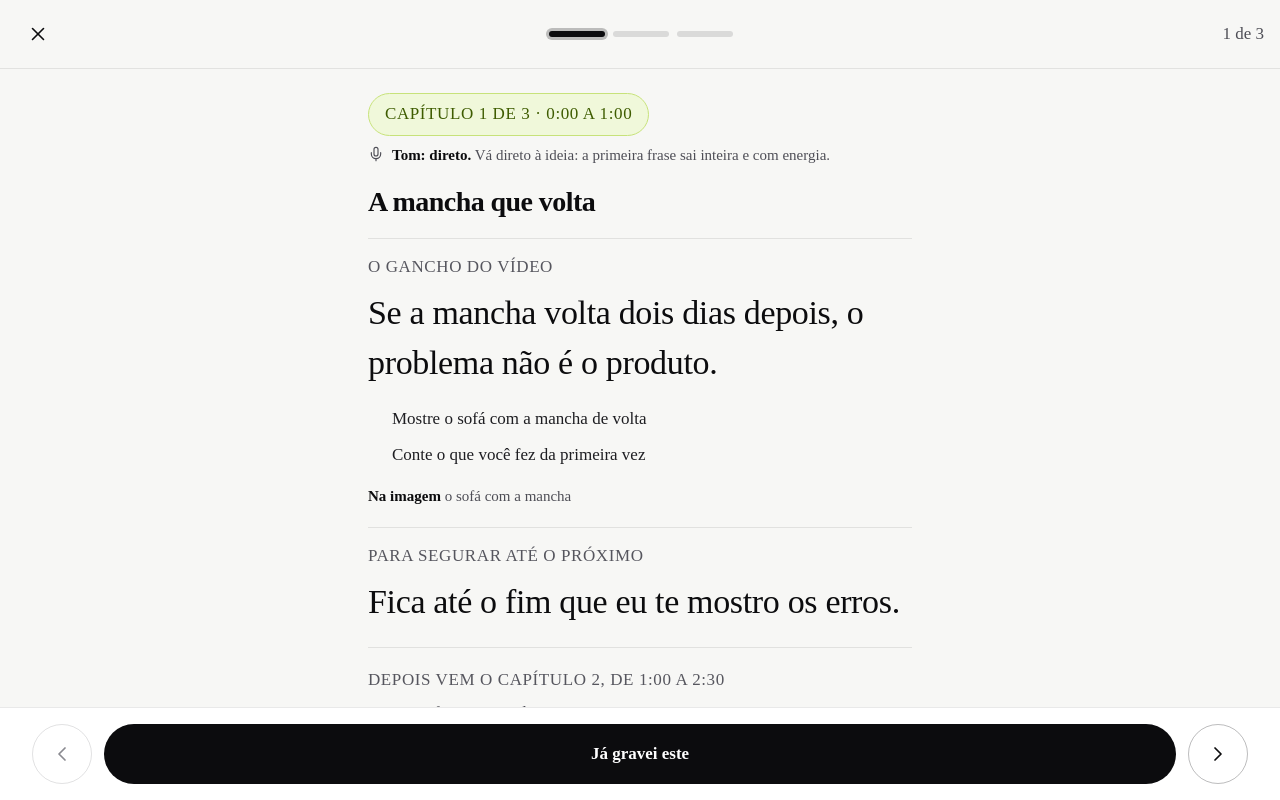
Scenario: GravacaoLongaTela › a seta do anterior volta, e fica desabilitada no primeiro capítulo
Expected: the element that starts with "Capítulo 1 de 3 · 0:00 a 1:00" is shown, [385, 104, 632, 123]
Expected: the button named "Capítulo anterior" is disabled, [32, 724, 92, 784]
Click the button named "Próximo capítulo, sem marcar" at (1218,754), box [1188, 724, 1248, 784]
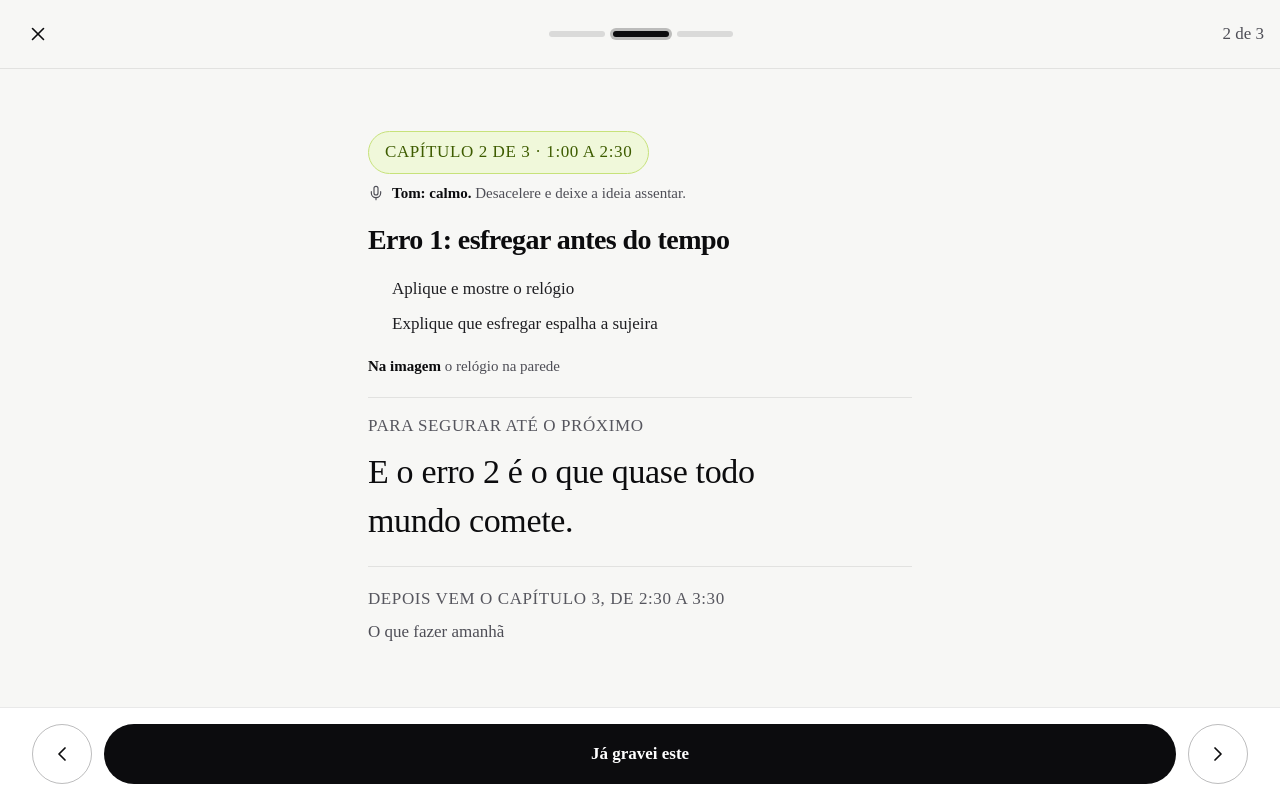
Result: the button named "Capítulo anterior" is enabled
Click the button named "Capítulo anterior" at (62,754), box [32, 724, 92, 784]
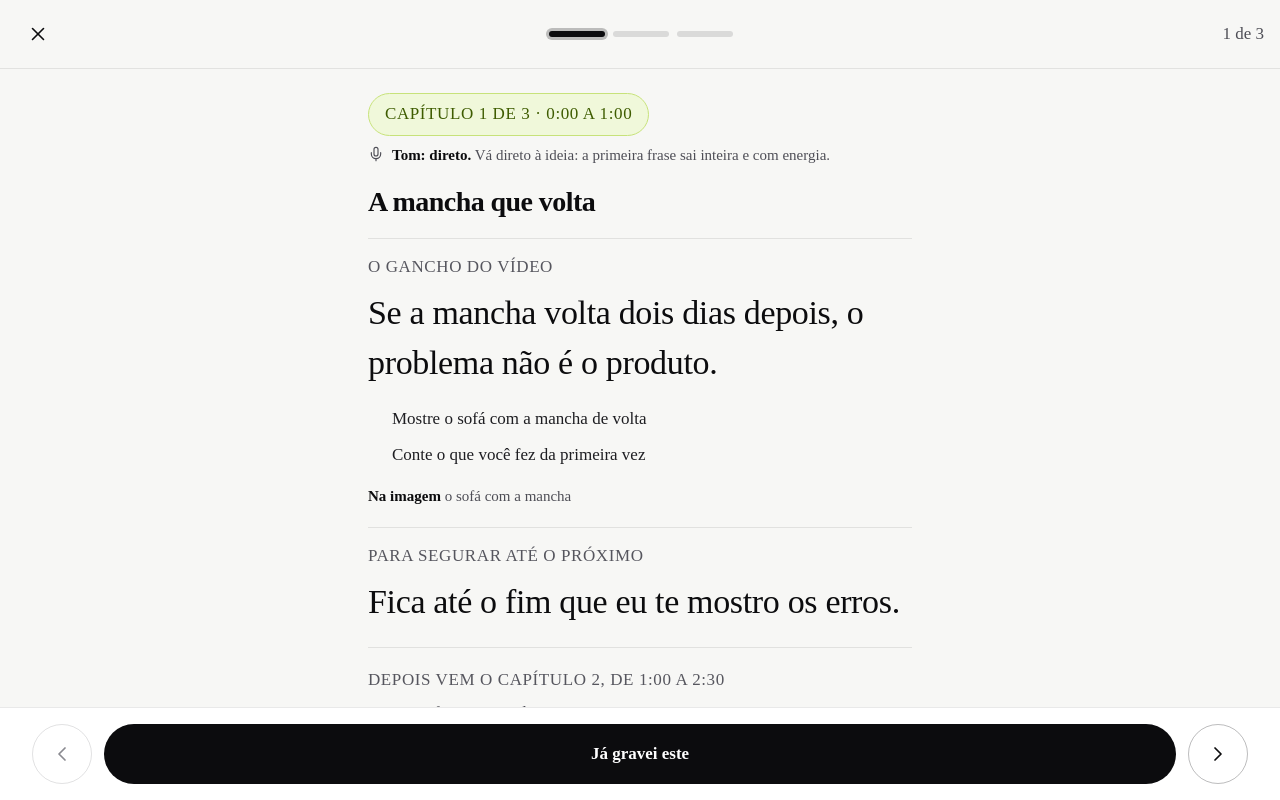
Result: the element that starts with "Capítulo 1 de 3 · 0:00 a 1:00" is shown at [385, 104, 632, 123]
